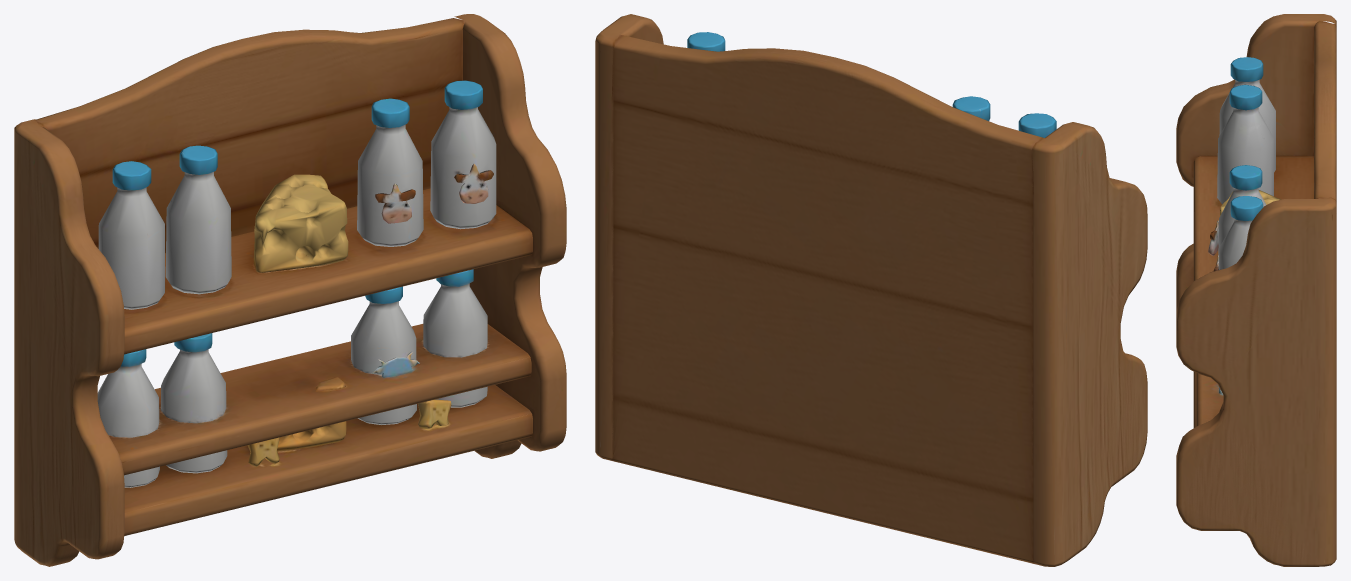
Rendered from selected.glb.
The picture shows the model from 3 angles, left to right: view 1: azimuth 30°, elevation 25°; view 2: azimuth 150°, elevation 25°; view 3: azimuth 270°, elevation 25°; orthographic projection. The views are drawn at different scales.
Visible parts, largest first — view 1: tripo_node_0544167f-289f-420b-ab14-e2eee6752ff5; view 2: tripo_node_0544167f-289f-420b-ab14-e2eee6752ff5; view 3: tripo_node_0544167f-289f-420b-ab14-e2eee6752ff5.
Part boxes in pixels (x1=…): tripo_node_0544167f-289f-420b-ab14-e2eee6752ff5: x1=14, y1=14, x2=566, y2=566; tripo_node_0544167f-289f-420b-ab14-e2eee6752ff5: x1=595, y1=14, x2=1147, y2=566; tripo_node_0544167f-289f-420b-ab14-e2eee6752ff5: x1=1176, y1=14, x2=1336, y2=566.
Size of the model in its own units: 0.998 by 0.9199 by 0.3457.
Materials: 1 (1 with a texture image).
